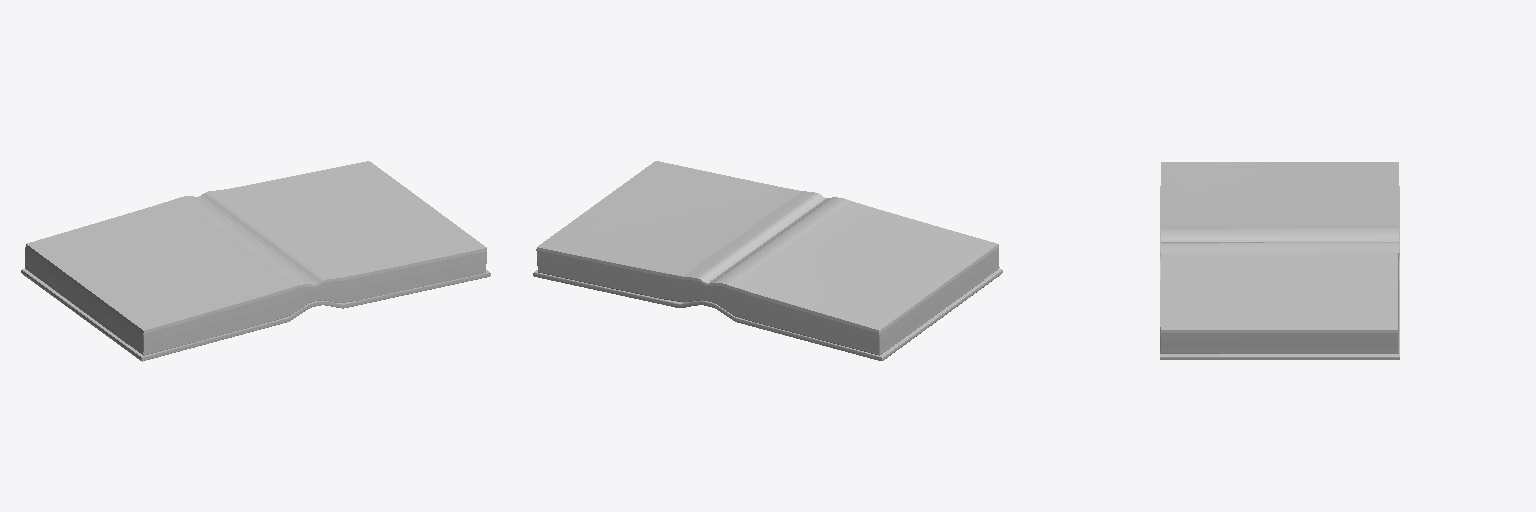
Rendered from bookplaceholder.obj.
The picture shows the model from 3 angles: view 1: azimuth 30°, elevation 25°; view 2: azimuth 150°, elevation 25°; view 3: azimuth 270°, elevation 25°; orthographic projection.
Visible parts, largest first — view 1: OpenBook2 Pages3, OpenBook3 OpenBook2; view 2: OpenBook2 Pages3, OpenBook3 OpenBook2; view 3: OpenBook2 Pages3, OpenBook3 OpenBook2.
Boxes of the visible parts, <box> form: OpenBook2 Pages3: <box>25,161,486,355</box>; OpenBook3 OpenBook2: <box>21,269,490,361</box>; OpenBook2 Pages3: <box>536,161,999,355</box>; OpenBook3 OpenBook2: <box>533,269,1002,360</box>; OpenBook2 Pages3: <box>1160,162,1398,353</box>; OpenBook3 OpenBook2: <box>1160,186,1399,359</box>.
Size of the model in its own units: 564 by 59.5 by 337.